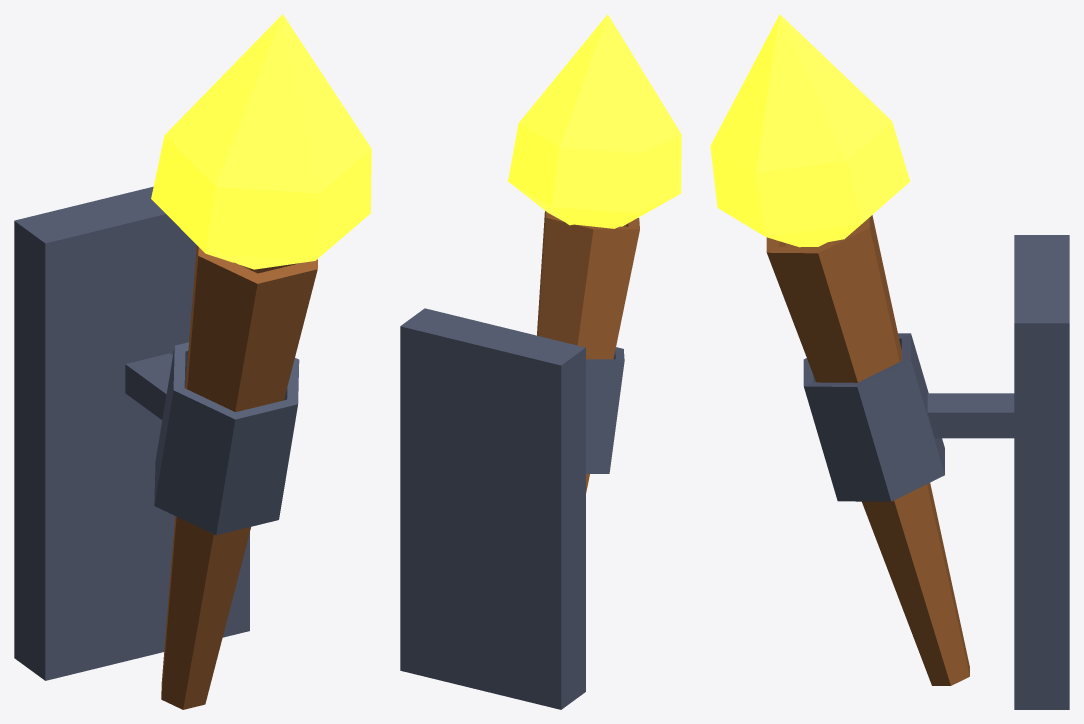
Rendered from torch.fbx.
3 views of the same model, side by side, from view 1: azimuth 30°, elevation 25°; view 2: azimuth 150°, elevation 25°; view 3: azimuth 270°, elevation 25° (orthographic). The views are drawn at different scales.
Parts seen in each view (by area): view 1: torch.001; view 2: torch.001; view 3: torch.001.
Boxes of the visible parts, <box> form: torch.001: <box>14,14,371,709</box>; torch.001: <box>400,14,681,709</box>; torch.001: <box>710,14,1069,709</box>.
Bounding box in the file's own units: 22.99 × 39.54 × 81.16.
